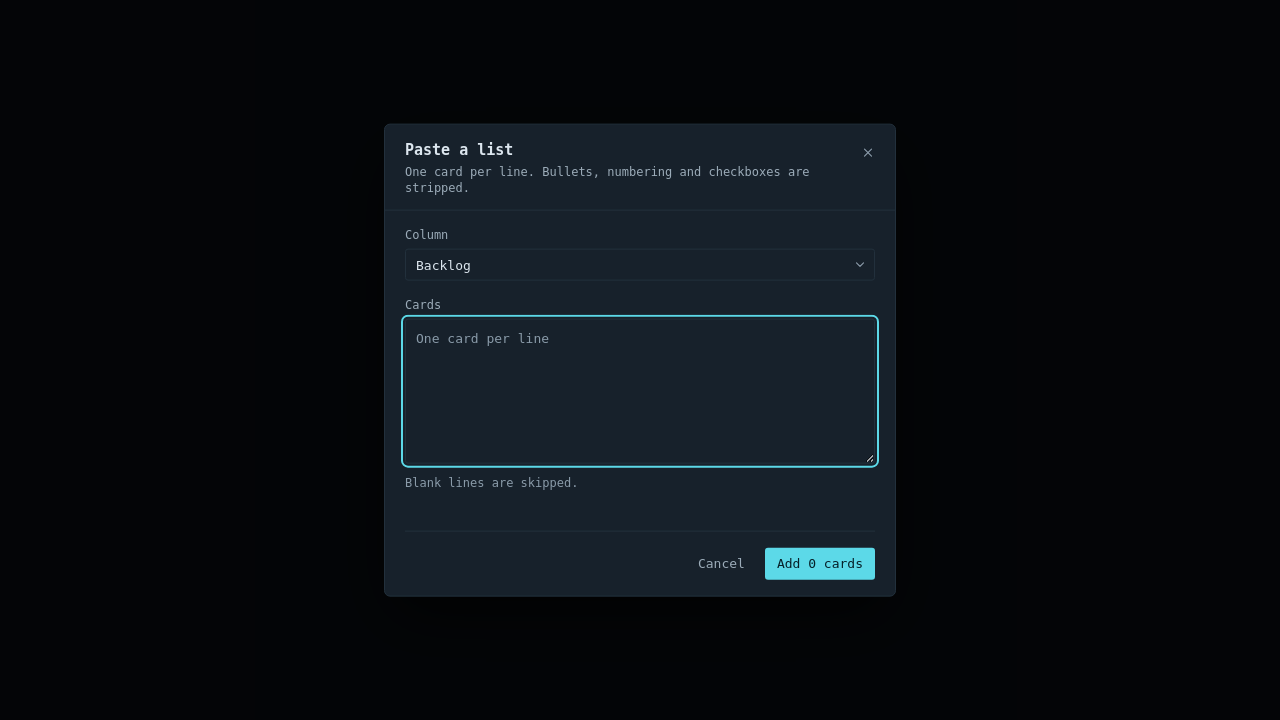
Test: BulkAdd › reports an empty list inline and keeps focus on the cards field
This screenshot has width=1280, height=720.
Click the button "Add 0 cards".
click(820, 563)  # box [765,547,875,579]
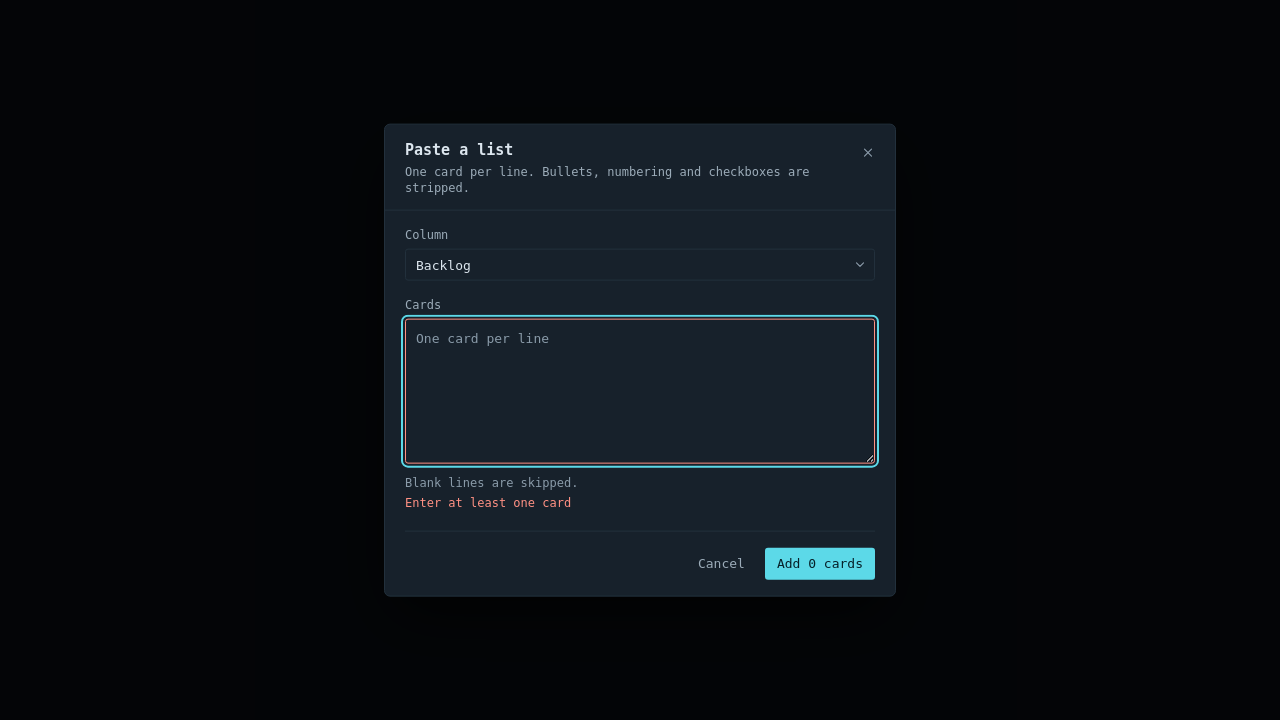
Check: the text "Enter at least one card" is shown, box [405,495,571,509]
